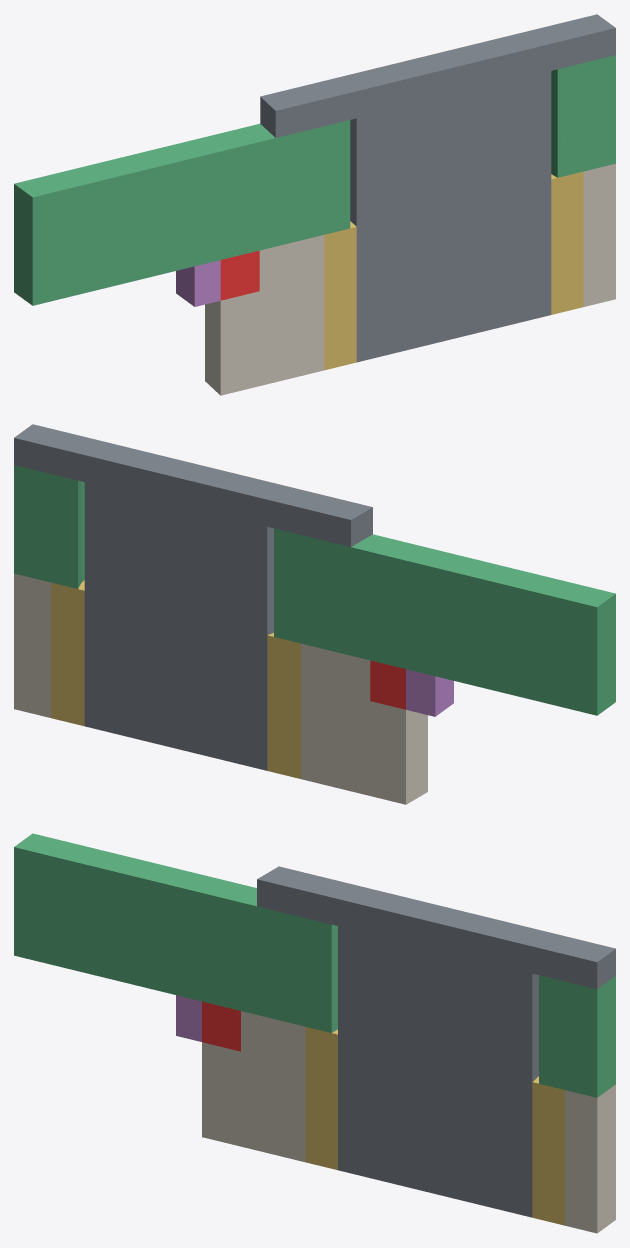
The model's file is short-component-boss-collision-0p6mm.actual.glb.
The picture shows the model from 3 angles, top to bottom: view 1: azimuth 30°, elevation 25°; view 2: azimuth 150°, elevation 25°; view 3: azimuth 330°, elevation 25°; orthographic projection.
Parts seen in each view (by area): view 1: EN1.H1.screw, board, base, EN1.H1.insert, C1, intersection-highlight; view 2: EN1.H1.screw, board, base, EN1.H1.insert, C1, intersection-highlight; view 3: EN1.H1.screw, board, base, EN1.H1.insert, intersection-highlight, C1.
Part boxes in pixels (x1,y1,x2,y2): EN1.H1.screw: [260, 14, 615, 362]; board: [14, 55, 615, 305]; base: [205, 163, 615, 395]; EN1.H1.insert: [324, 171, 583, 370]; C1: [176, 260, 220, 306]; intersection-highlight: [220, 250, 259, 300]; EN1.H1.screw: [14, 424, 372, 770]; board: [14, 465, 615, 715]; base: [14, 573, 427, 804]; EN1.H1.insert: [51, 580, 300, 778]; C1: [406, 669, 453, 716]; intersection-highlight: [370, 660, 405, 709]; EN1.H1.screw: [257, 866, 615, 1217]; board: [14, 833, 615, 1097]; base: [202, 1011, 615, 1233]; EN1.H1.insert: [305, 1027, 564, 1225]; intersection-highlight: [202, 1001, 240, 1051]; C1: [176, 995, 201, 1041].
Bounding box in the file's own units: 9 × 4 × 0.5.
